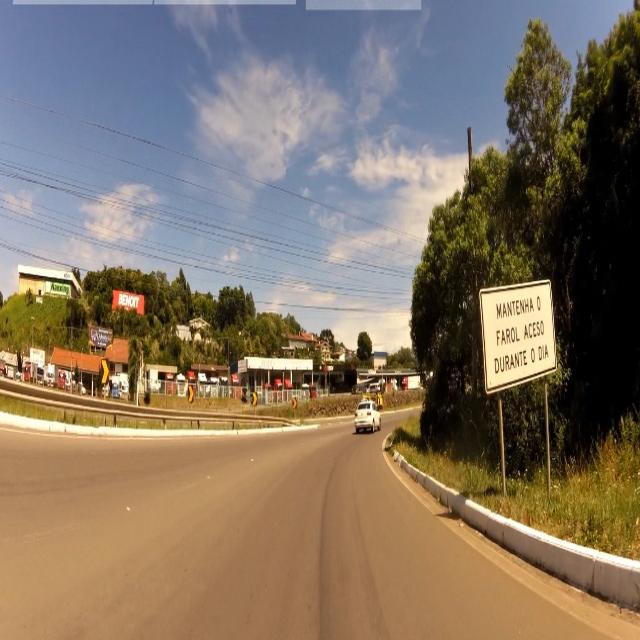E-5: (479, 286, 562, 384)
